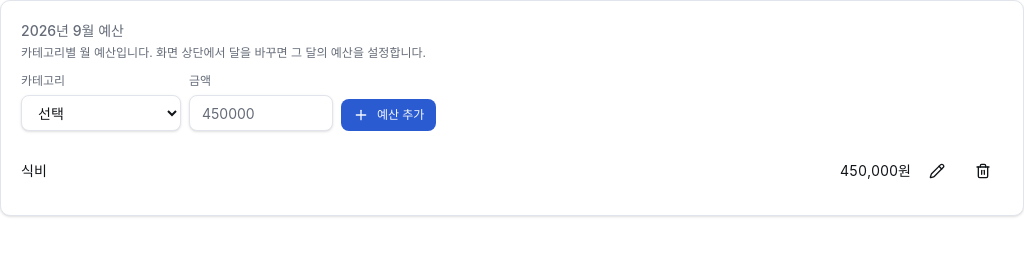
BudgetSection - 예산 관리 › 수정 금액이 0원 이하면 저장하지 않는다
Expected: the text "450,000원" is shown, [840,161,911,181]
Click the button named "식비 예산 수정" at (937, 171), box [917,155,957,187]
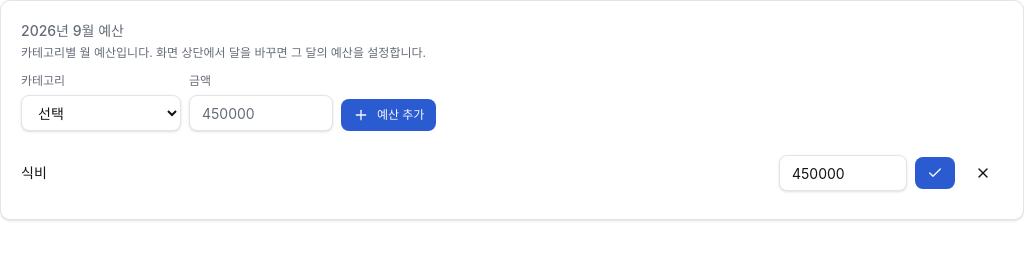
Replace the text in the number field named "식비 예산 금액" with "0" at (843, 173), box [779,155,907,191]
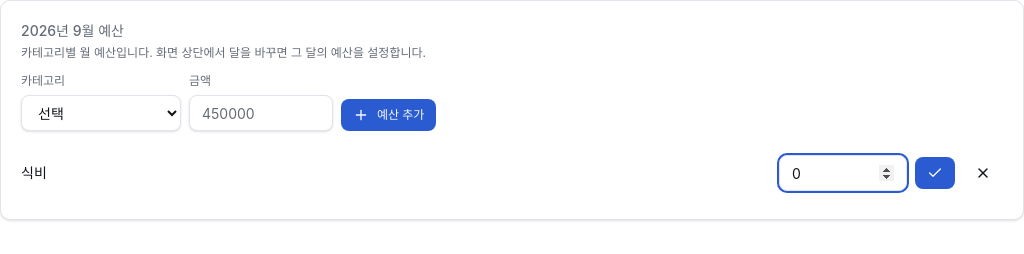
Click the button named "저장" at (935, 173), box [915,157,955,189]
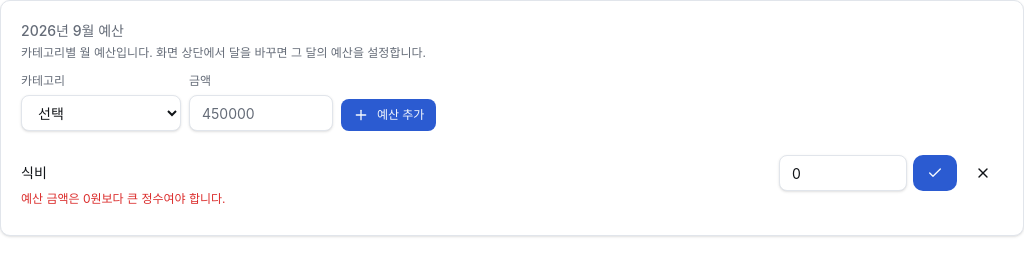
Result: the message shows "0원보다 큰 정수" at [21,191,226,206]
